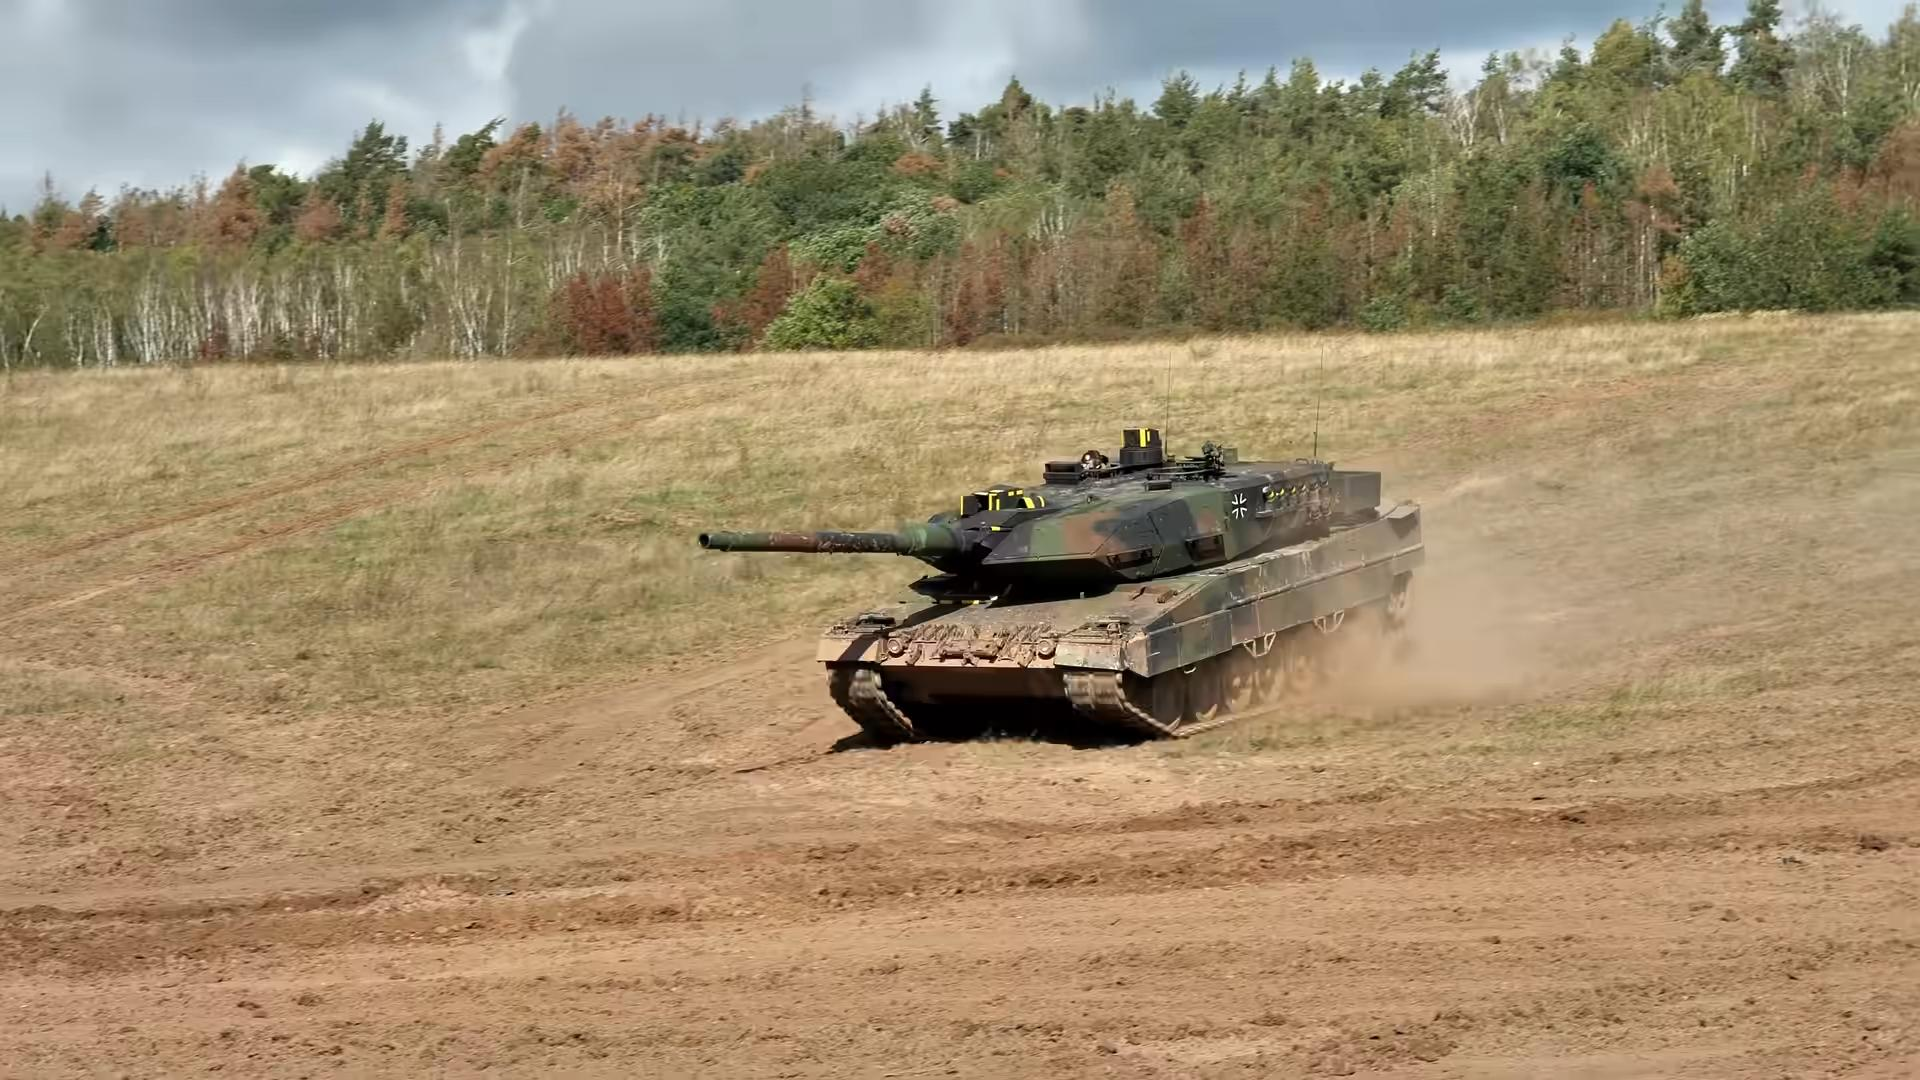tank: (700, 430, 1423, 738)
